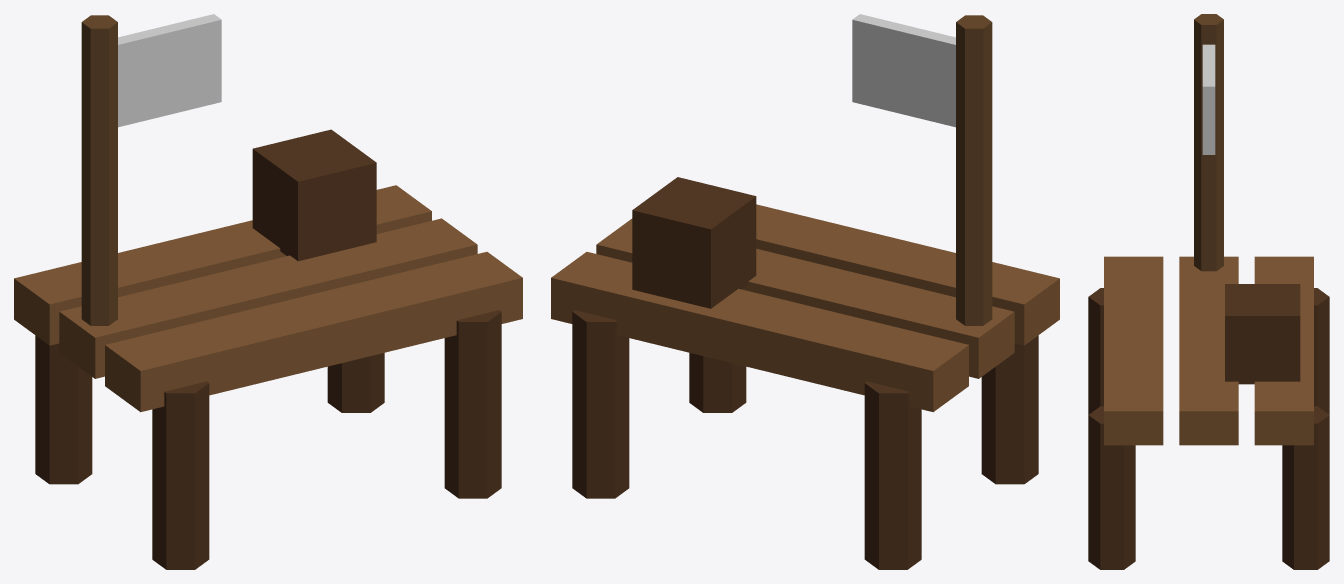
File: port.glb
3 views of the same model, side by side, from view 1: azimuth 30°, elevation 25°; view 2: azimuth 150°, elevation 25°; view 3: azimuth 270°, elevation 25° (orthographic). The views are drawn at different scales.
Parts seen in each view (by area): view 1: Cube, Cube.001, Cube.003, Cube.002, Cylinder.004, Cylinder.003, Cylinder.001, PortFlag, Cylinder, Cylinder.002; view 2: Cube.002, Cube.003, Cube, Cube.001, Cylinder.004, Cylinder.002, Cylinder, PortFlag, Cylinder.001, Cylinder.003; view 3: Cube, Cube.001, Cube.003, Cube.002, Cylinder.002, Cylinder.003, Cylinder.004, Cylinder, Cylinder.001, PortFlag.
Part boxes in pixels (box(x1,y1,x2,y2)): Cube: box(105, 252, 522, 412); Cube.001: box(59, 218, 477, 378); Cube.003: box(252, 129, 376, 261); Cube.002: box(14, 185, 431, 345); Cylinder.004: box(81, 15, 117, 325); Cylinder.003: box(444, 310, 501, 498); Cylinder.001: box(152, 381, 209, 569); PortFlag: box(118, 14, 221, 127); Cylinder: box(35, 335, 92, 484); Cylinder.002: box(327, 353, 384, 412); Cube.002: box(551, 252, 968, 412); Cube.003: box(632, 177, 756, 308); Cube: box(756, 204, 1059, 345); Cube.001: box(596, 218, 1014, 378); Cylinder.004: box(956, 15, 992, 325); Cylinder.002: box(572, 310, 629, 498); Cylinder: box(864, 381, 921, 569); PortFlag: box(852, 14, 955, 127); Cylinder.001: box(981, 335, 1038, 484); Cylinder.003: box(689, 353, 746, 412); Cube: box(1104, 256, 1163, 445); Cube.001: box(1179, 256, 1238, 445); Cube.003: box(1225, 284, 1300, 384); Cube.002: box(1254, 256, 1313, 445); Cylinder.002: box(1282, 406, 1329, 569); Cylinder.003: box(1088, 406, 1135, 569); Cylinder.004: box(1194, 14, 1223, 271); Cylinder: box(1314, 288, 1329, 414); Cylinder.001: box(1088, 288, 1103, 414); PortFlag: box(1202, 44, 1215, 154).
Size of the model in its own units: 0.34 by 0.425 by 0.224.
